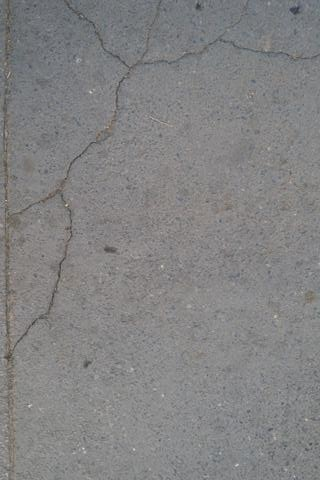A: (13, 1, 130, 353), (135, 2, 317, 68)
